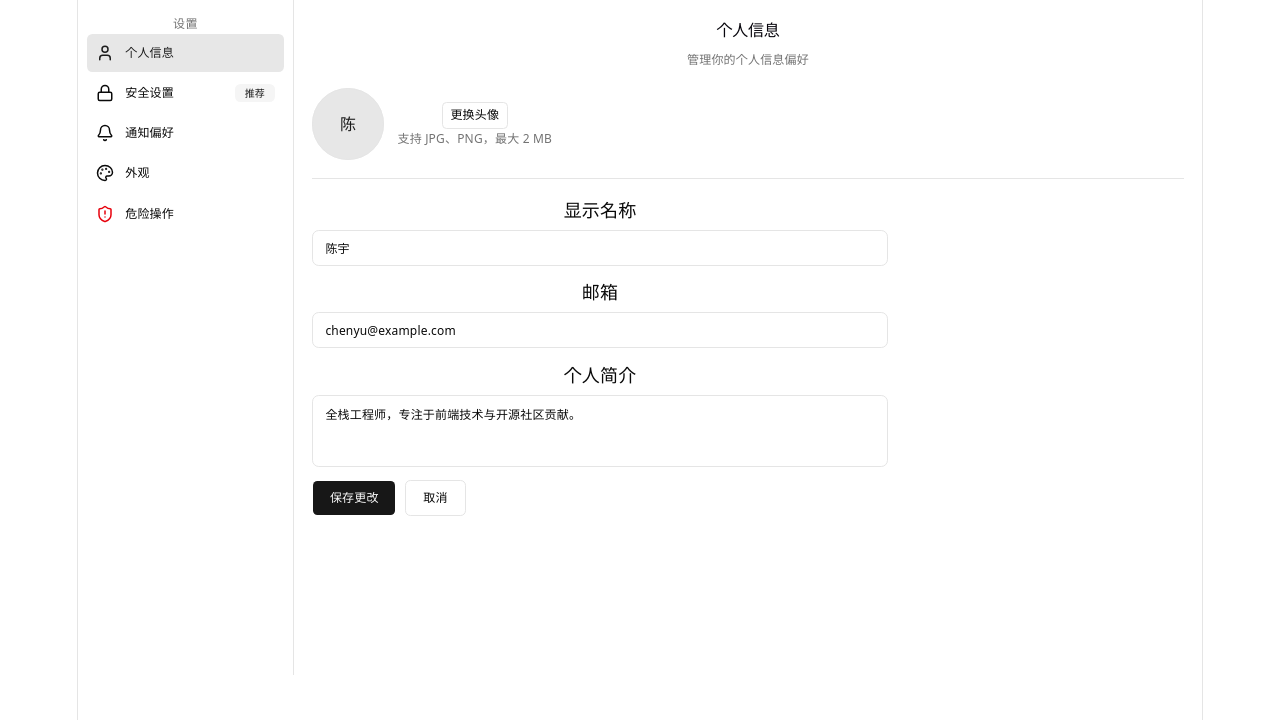
Scenario: SettingsPage › switches to notifications tab on click
Click the tab "通知偏好" at (186, 133), box [87,114,284,152]
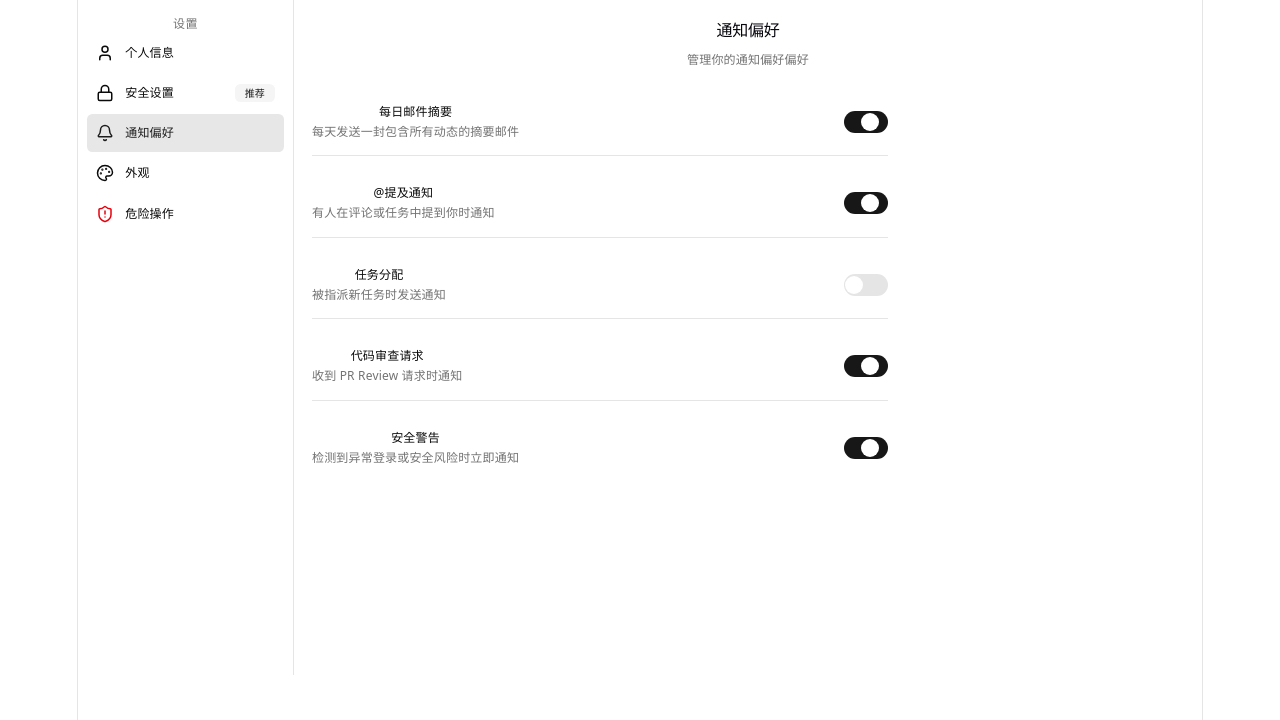
Expected: the text "每日邮件摘要" is shown, [379,102,452,120]
Expected: the text "@提及通知" is shown, [374,184,433,201]
